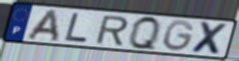A: (24, 8, 60, 43)
G: (161, 19, 196, 53)
L: (63, 12, 90, 44)
Q: (128, 15, 162, 53)
R: (94, 15, 131, 46)
X: (190, 20, 231, 57)
